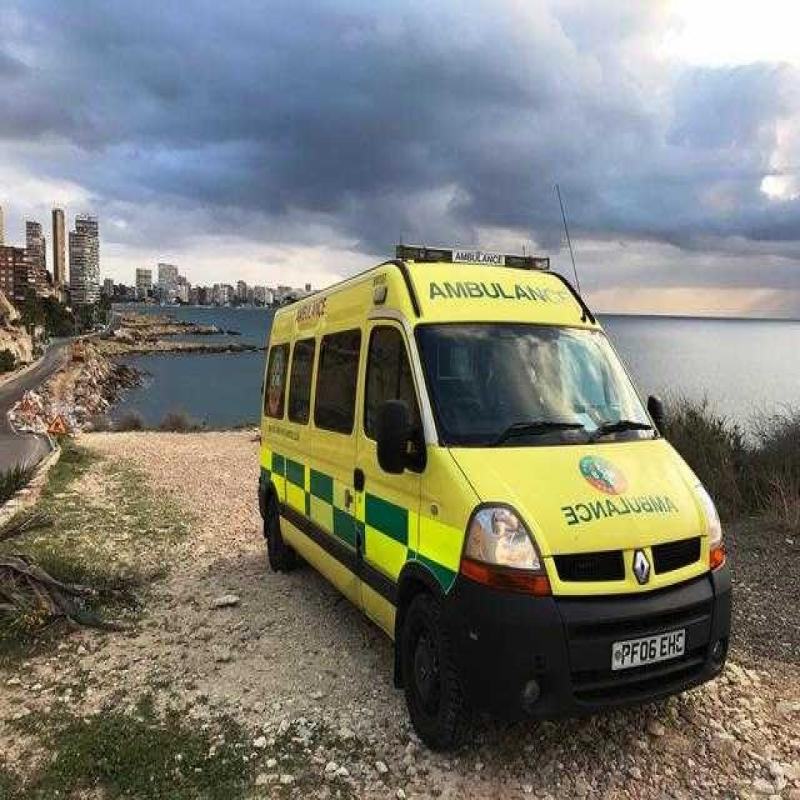AmbulanceSiren: (392, 200, 560, 283)
